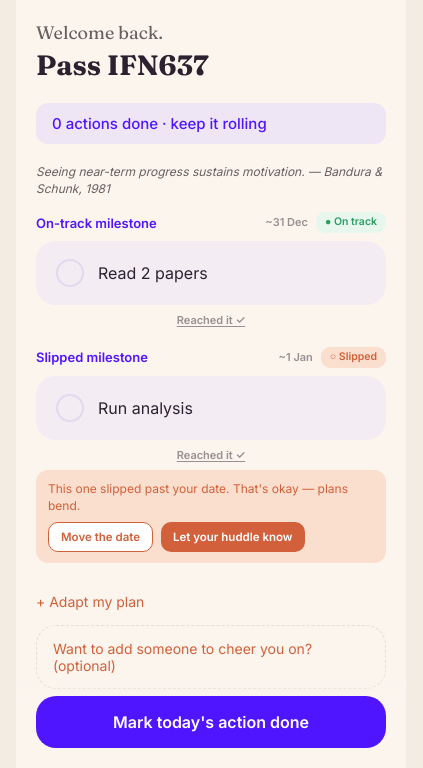
Test: "Let your huddle know" shows a confirmation
Click the button "Let your huddle know".
click(233, 537)  # box [161,522,304,552]
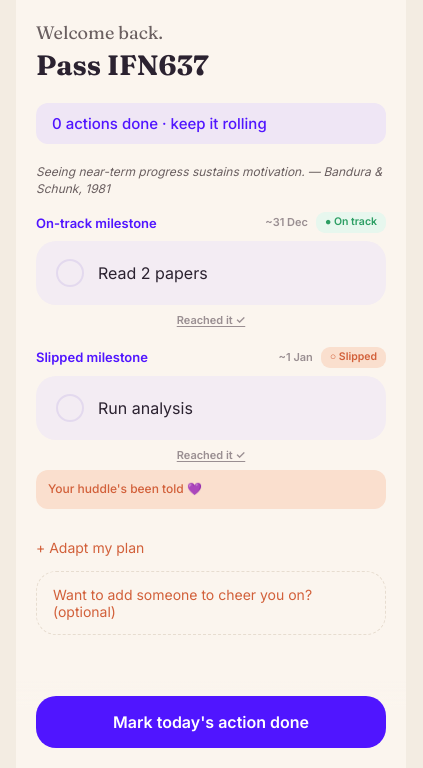
Now the text "Your huddle's been told 💜" is shown, box [48,481,202,496]
